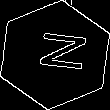N_W: (25, 32, 85, 78)
